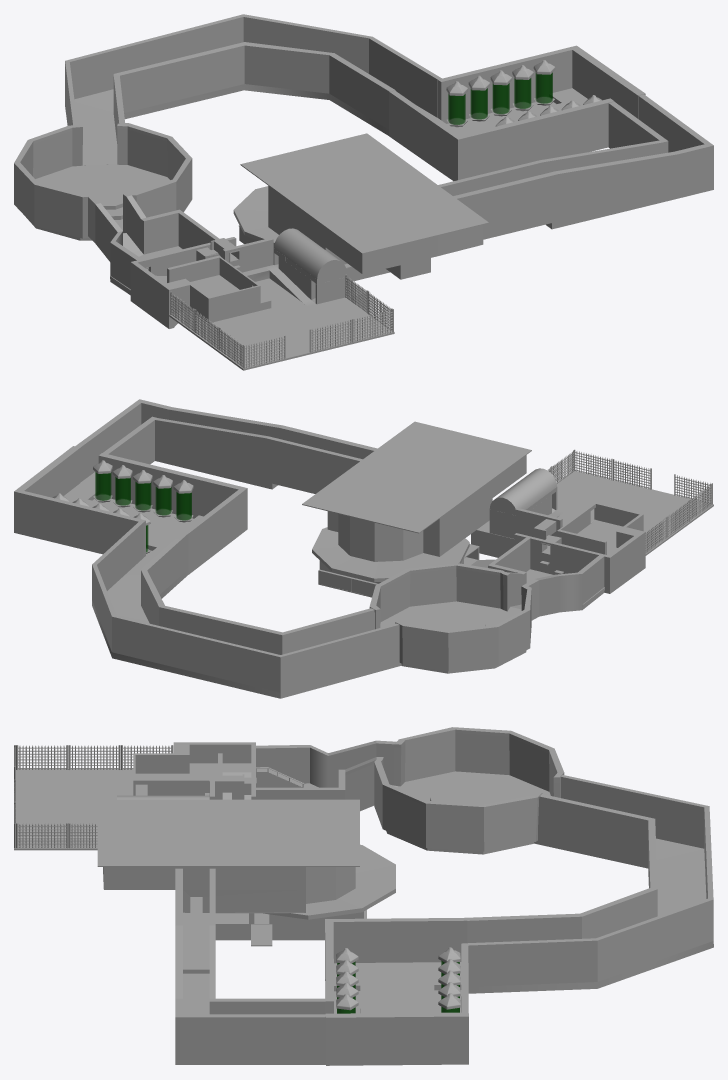
File: Environment.fbx
The picture shows the model from 3 angles, top to bottom: view 1: azimuth 30°, elevation 25°; view 2: azimuth 150°, elevation 25°; view 3: azimuth 270°, elevation 25°; orthographic projection. The views are drawn at different scales.
Parts seen in each view (by area): view 1: Hallway_1, Gateway, Specimen_Room, Laboratory, Biotic_Room, Hallway_2, Basement; view 2: Hallway_1, Laboratory, Gateway, Biotic_Room, Specimen_Room, Hallway_2, Basement; view 3: Hallway_1, Laboratory, Biotic_Room, Specimen_Room, Gateway, Hallway_2, Basement.
Part boxes in pixels (bbox=[...]): Hallway_1: bbox=[65, 14, 441, 165]; Gateway: bbox=[130, 228, 394, 370]; Specimen_Room: bbox=[389, 45, 645, 181]; Laboratory: bbox=[240, 133, 488, 279]; Biotic_Room: bbox=[14, 123, 219, 295]; Hallway_2: bbox=[438, 94, 713, 239]; Basement: bbox=[233, 186, 389, 281]; Hallway_1: bbox=[92, 521, 401, 698]; Laboratory: bbox=[302, 421, 531, 561]; Gateway: bbox=[471, 449, 713, 593]; Biotic_Room: bbox=[369, 537, 604, 673]; Specimen_Room: bbox=[14, 446, 247, 574]; Hallway_2: bbox=[75, 399, 377, 493]; Basement: bbox=[312, 527, 479, 597]; Hallway_1: bbox=[467, 775, 713, 993]; Laboratory: bbox=[97, 799, 359, 913]; Biotic_Room: bbox=[255, 727, 564, 854]; Specimen_Room: bbox=[325, 917, 468, 1065]; Gateway: bbox=[14, 742, 256, 850]; Hallway_2: bbox=[175, 868, 325, 1064]; Basement: bbox=[215, 844, 395, 946].
Bounding box in the file's own units: 164 × 22.48 × 167.
